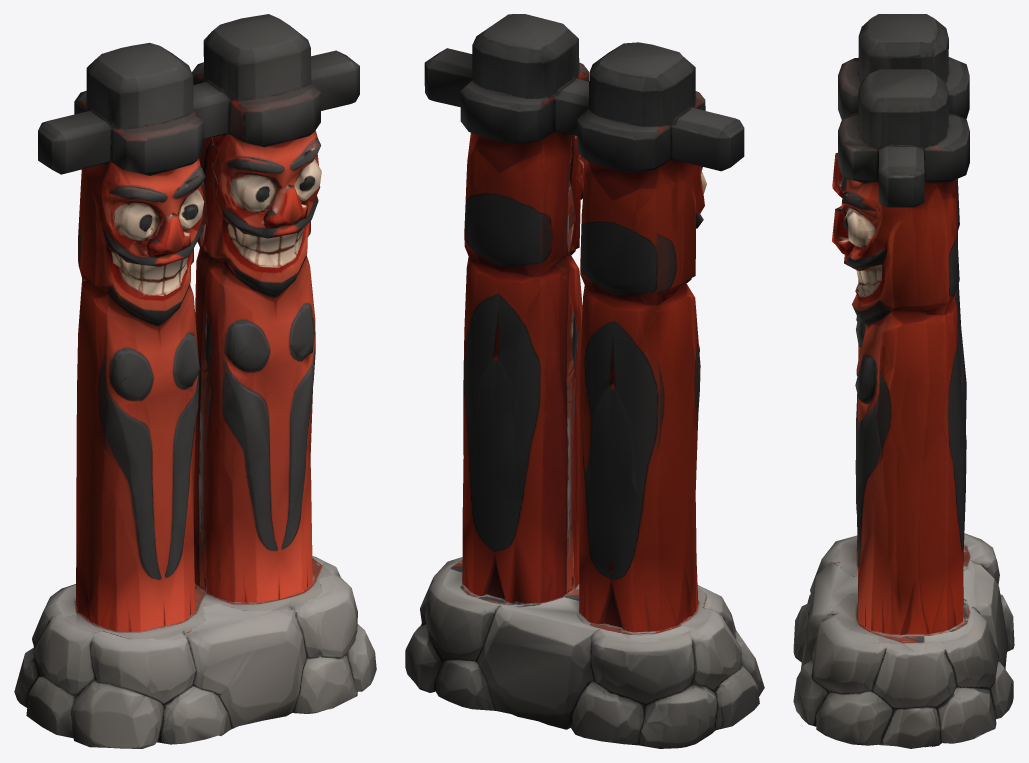
File: jangseung.glb
3 views of the same model, side by side, from view 1: azimuth 30°, elevation 25°; view 2: azimuth 150°, elevation 25°; view 3: azimuth 270°, elevation 25° (orthographic). The views are drawn at different scales.
Visible parts, largest first — view 1: low; view 2: low; view 3: low.
Boxes of the visible parts, left/top/right/bottom form: low: left=14, top=14, right=376, bottom=748; low: left=405, top=14, right=764, bottom=748; low: left=793, top=14, right=1014, bottom=748.
Size of the model in its own units: 0.5233 by 1 by 0.3229.
Materials: 1 (1 with a texture image).
